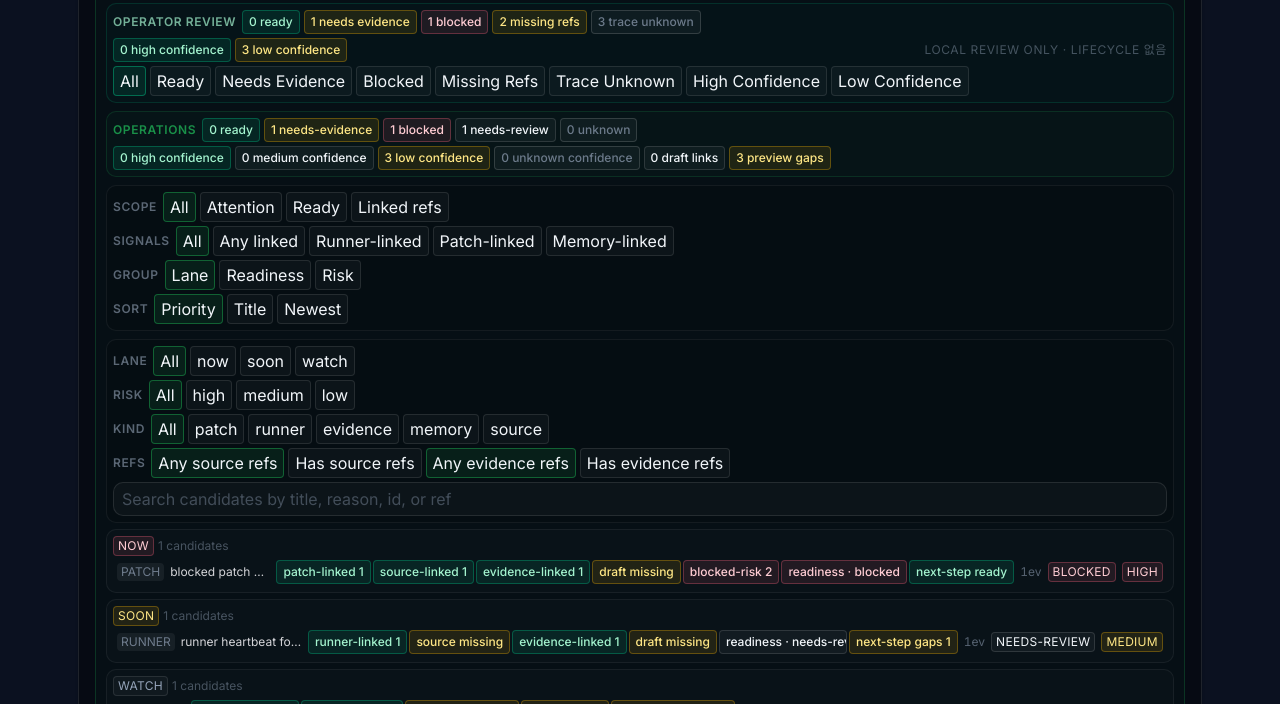
E7 — WorkItem Candidate Board / Triage View › filters locally by lane, risk, and kind
(page scrolled)
Click the button with test id "wic-filter-lane-now" at [213, 360], box [190,346,236,376]
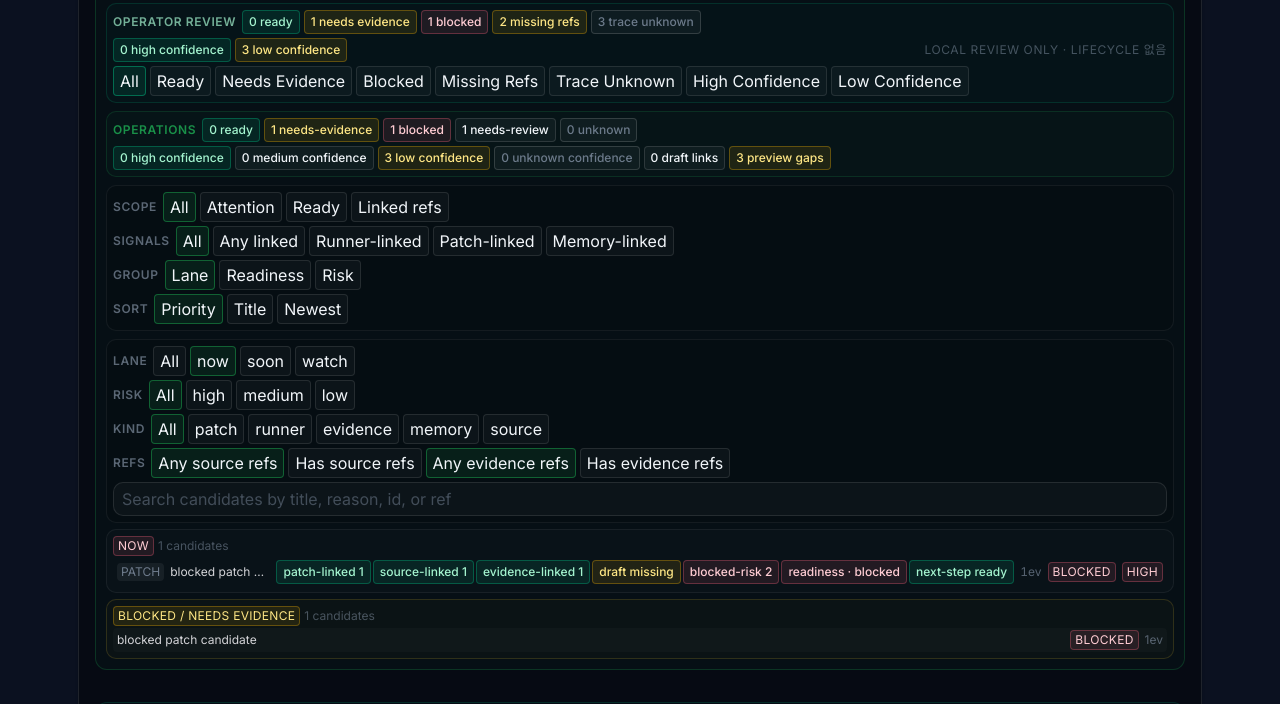
Expected: the button with test id "wic-row-wic-now-patch" is shown, [113,558,1167,586]
Now the button with test id "wic-row-wic-soon-runner" is gone
Click the button with test id "wic-filter-lane-all" at [170, 360], box [153,346,186,376]
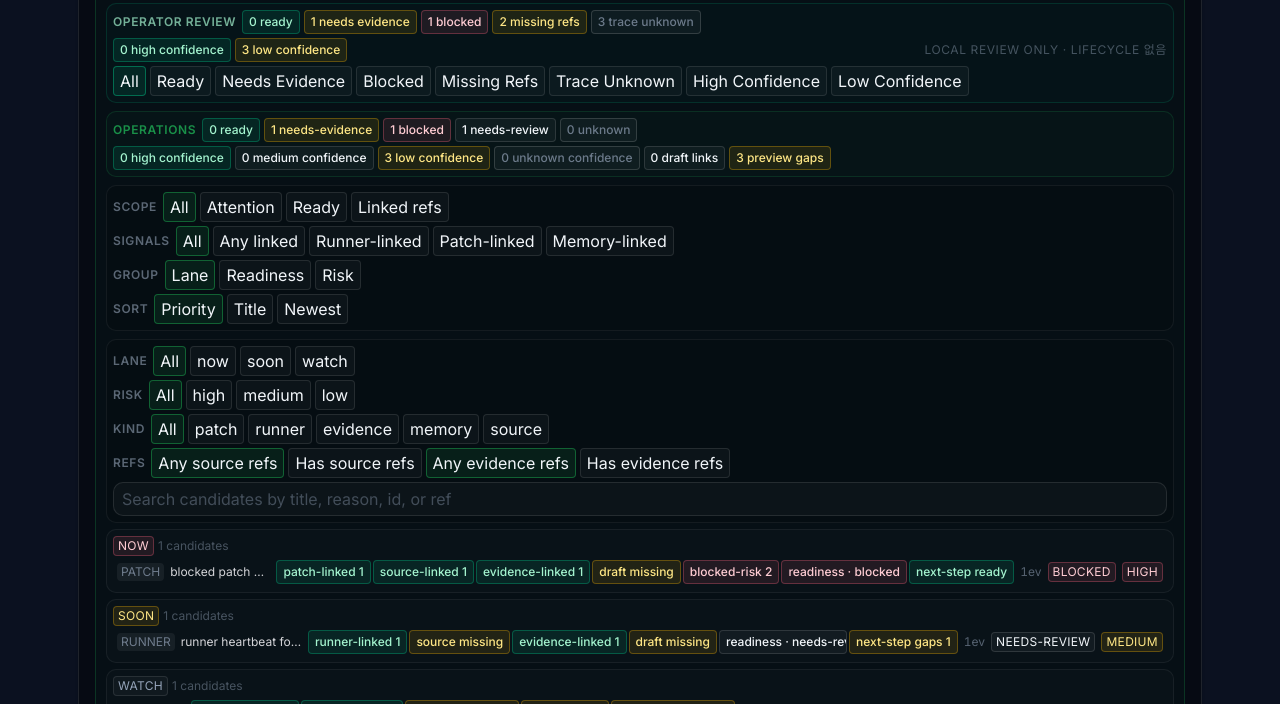
Click the button with test id "wic-filter-risk-medium" at [273, 394], box [236,380,311,410]
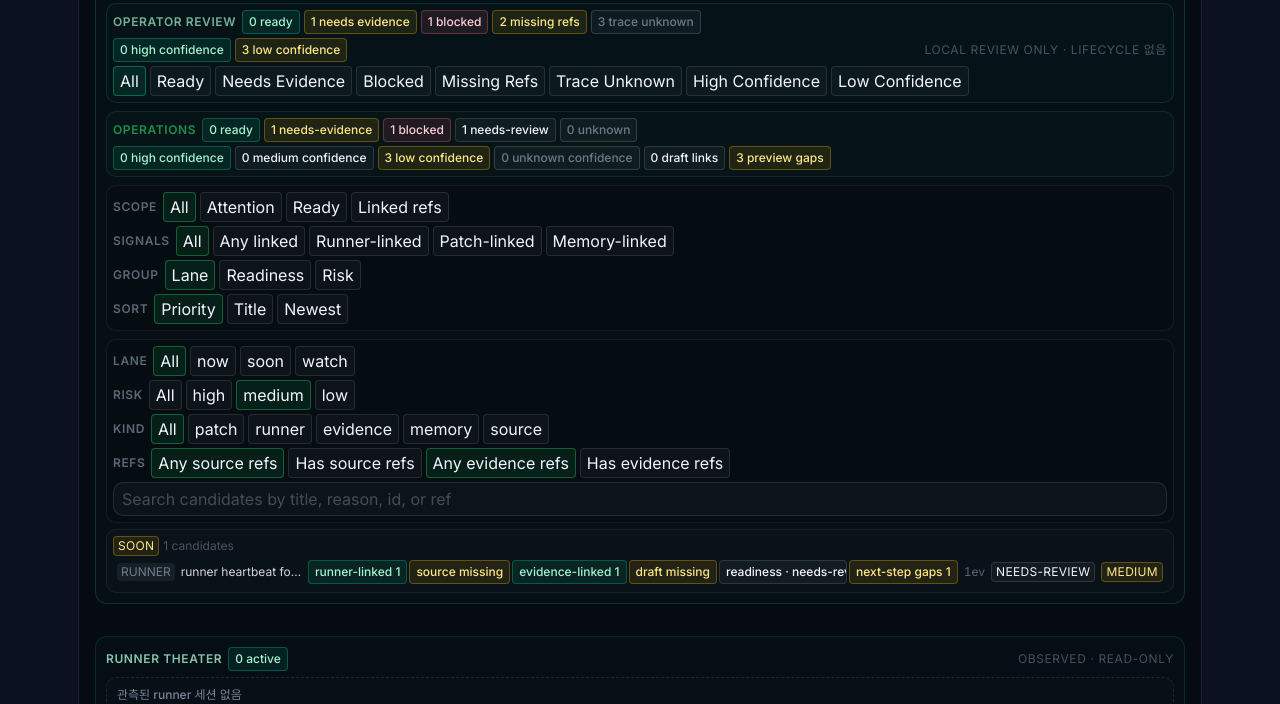
Now the button with test id "wic-row-wic-soon-runner" is shown, box [113,558,1167,586]
Now the button with test id "wic-row-wic-now-patch" is gone
Click the button with test id "wic-filter-risk-all" at [165, 394], box [149,380,182,410]
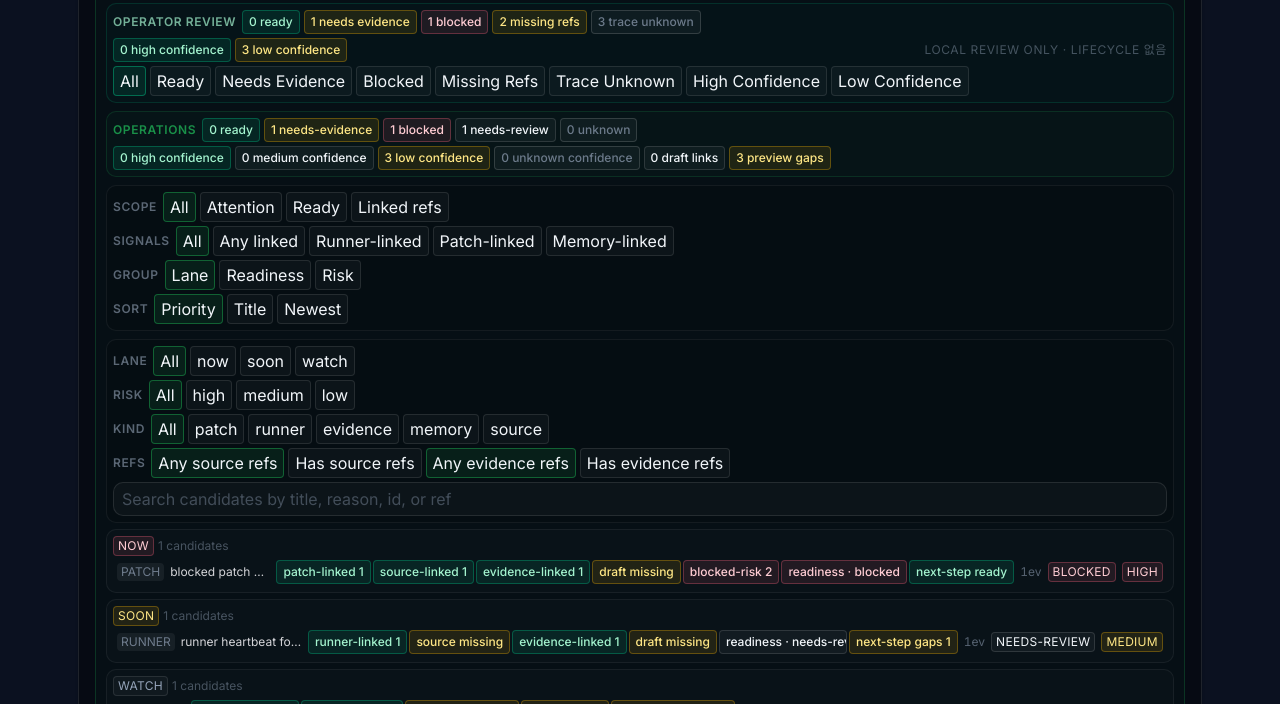
Click the button with test id "wic-filter-kind-memory" at [441, 428], box [403,414,479,444]
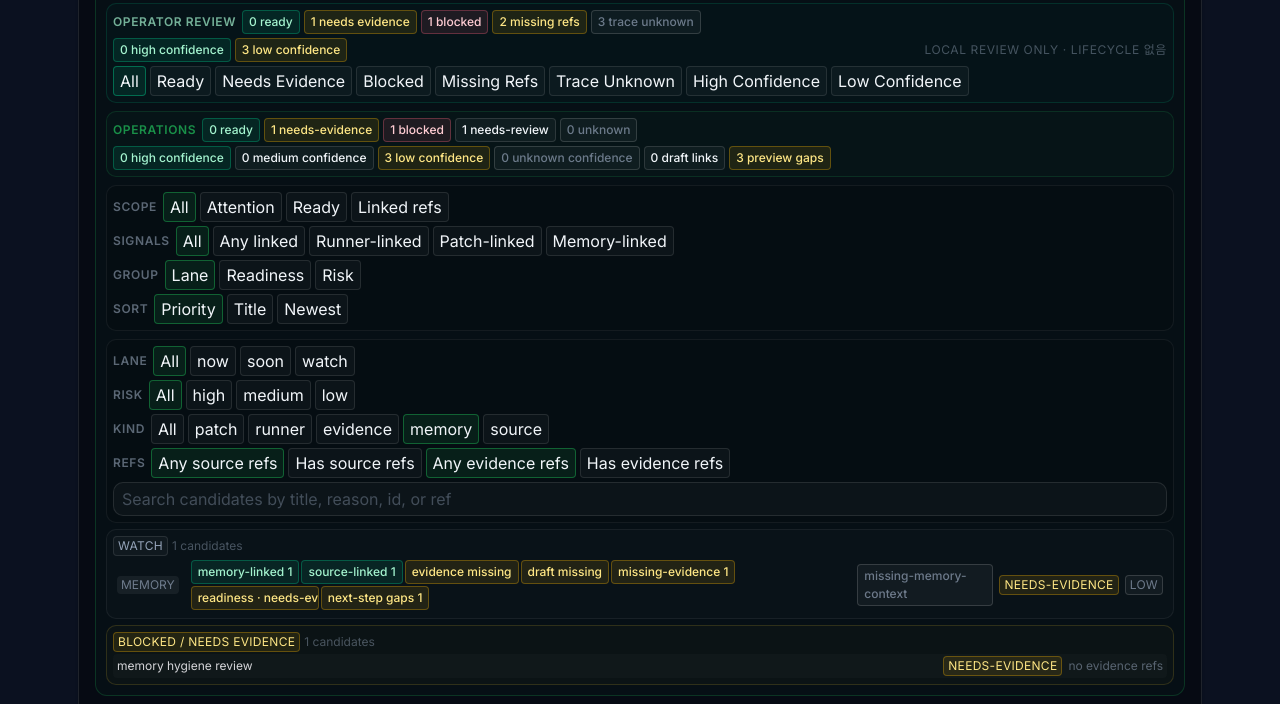
Now the button with test id "wic-row-wic-watch-memory" is shown, box [113,558,1167,612]
Now the button with test id "wic-row-wic-soon-runner" is gone
